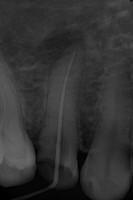Furcation Involvement: (24, 20, 87, 68)
